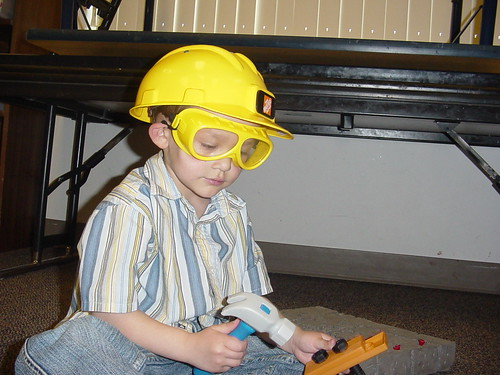person hardhat: (130, 46, 293, 199)
